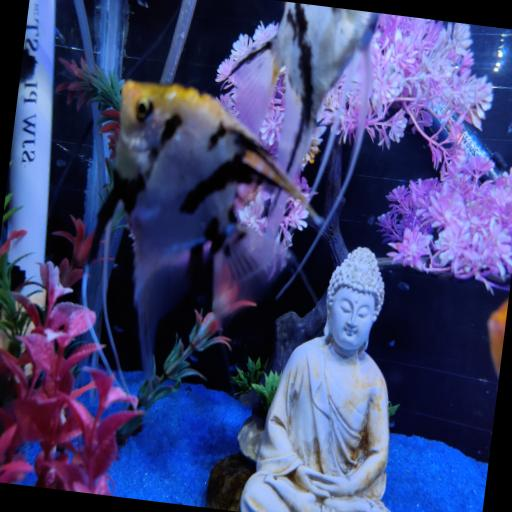Fish: (89, 81, 318, 376), (230, 2, 377, 178), (232, 2, 376, 175), (487, 300, 508, 376)
